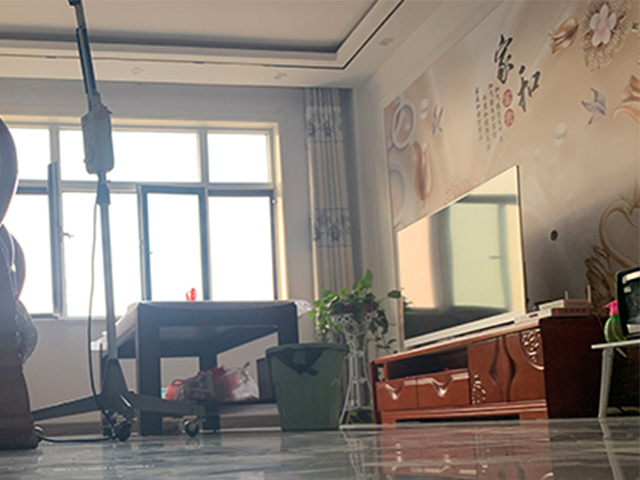cabinet: (366, 316, 606, 425)
curtain: (303, 89, 357, 297)
table: (91, 301, 299, 438)
trashcan: (266, 342, 351, 433)
wire: (87, 205, 102, 422)
